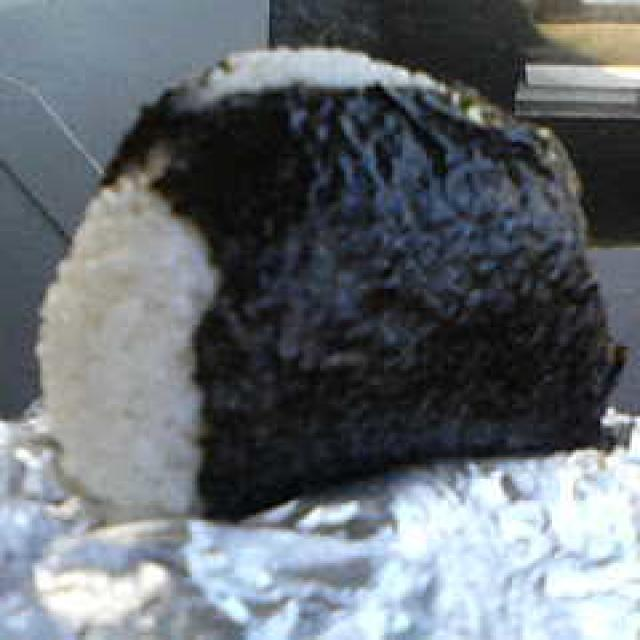米饭主食: (32, 43, 616, 498)
